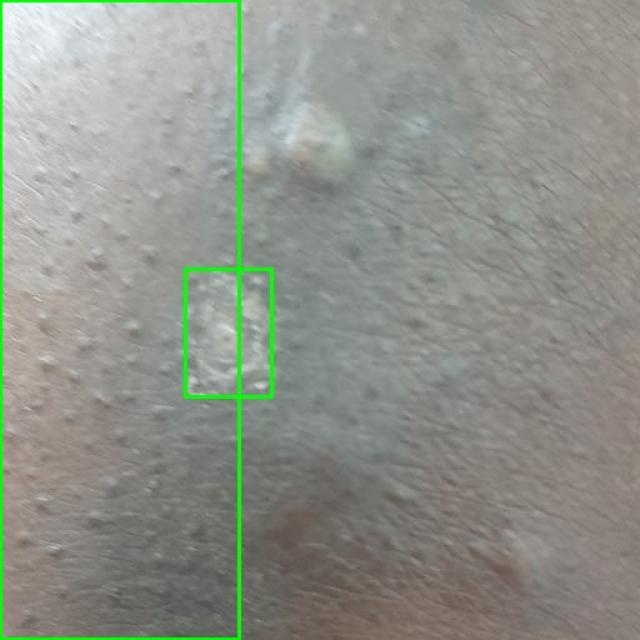Seborrheic Dermatitis: (0, 0, 239, 639), (185, 269, 271, 396)
